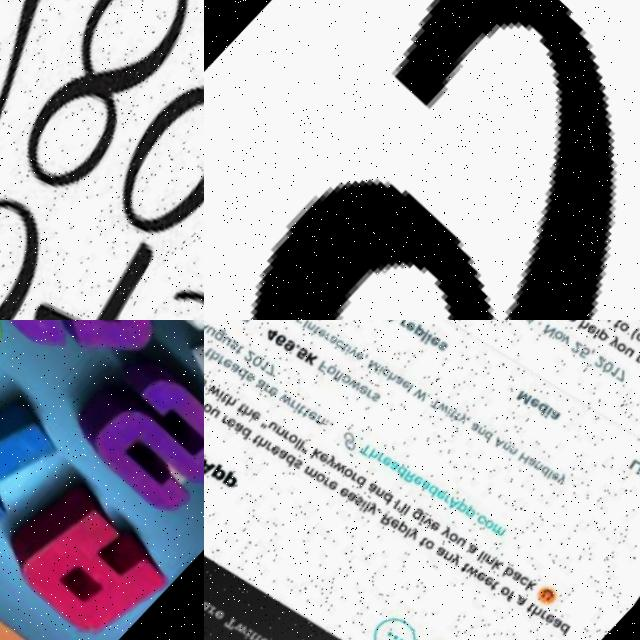0: (152, 23, 204, 320), (250, 355, 267, 372), (602, 367, 618, 384)
1: (258, 362, 272, 375), (611, 373, 624, 387)
2: (569, 347, 586, 364), (593, 362, 610, 379), (243, 351, 259, 367)
3: (0, 161, 119, 320)
4: (0, 189, 204, 320), (264, 329, 282, 347)
5: (295, 349, 312, 366), (578, 353, 595, 370)
6: (273, 334, 291, 352)
7: (0, 0, 168, 187), (265, 365, 281, 382), (616, 376, 632, 393)
8: (0, 0, 204, 237)
9: (204, 0, 640, 320), (50, 0, 204, 287), (282, 340, 299, 357)
A: (0, 465, 180, 640)
G: (0, 320, 199, 420)
H: (135, 320, 204, 459)
S: (63, 338, 204, 541)
T: (0, 346, 93, 553)
